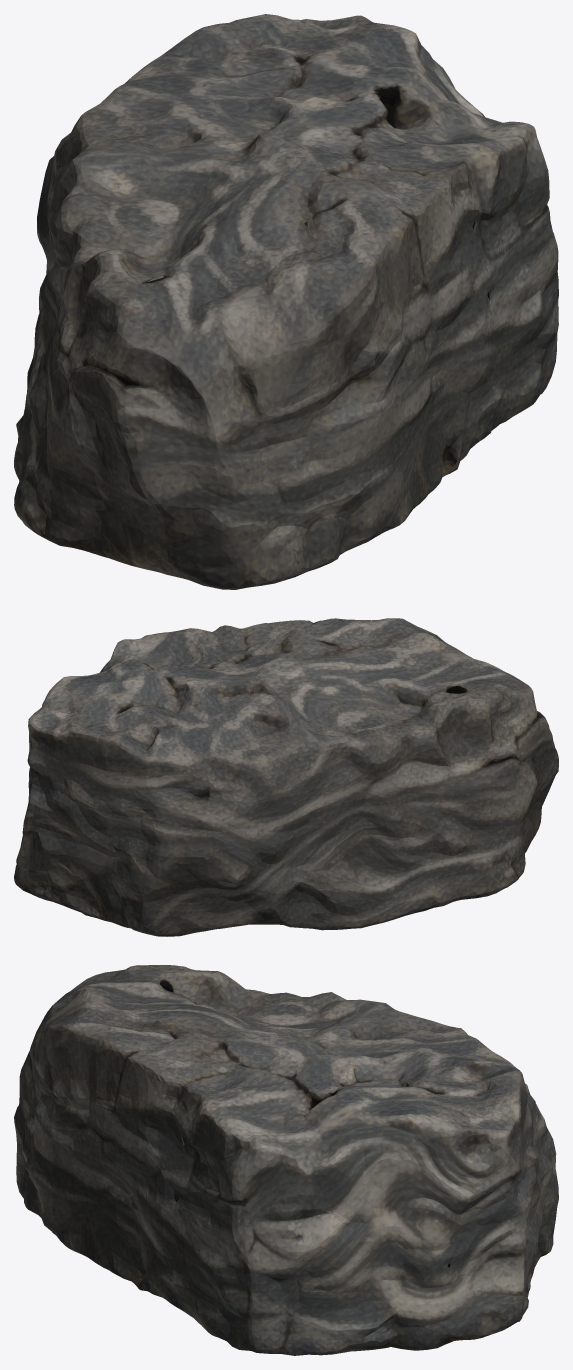
The picture shows the model from 3 angles, top to bottom: view 1: azimuth 30°, elevation 25°; view 2: azimuth 150°, elevation 25°; view 3: azimuth 270°, elevation 25°; orthographic projection. The views are drawn at different scales.
Parts seen in each view (by area): view 1: world; view 2: world; view 3: world.
Part boxes in pixels (x1,y1,x2,y2): world: (14,14,558,589); world: (14,618,558,936); world: (14,965,558,1355).
Bounding box in the file's own units: 0.9582 × 0.4541 × 0.9915.
1 material, 1 textured.
